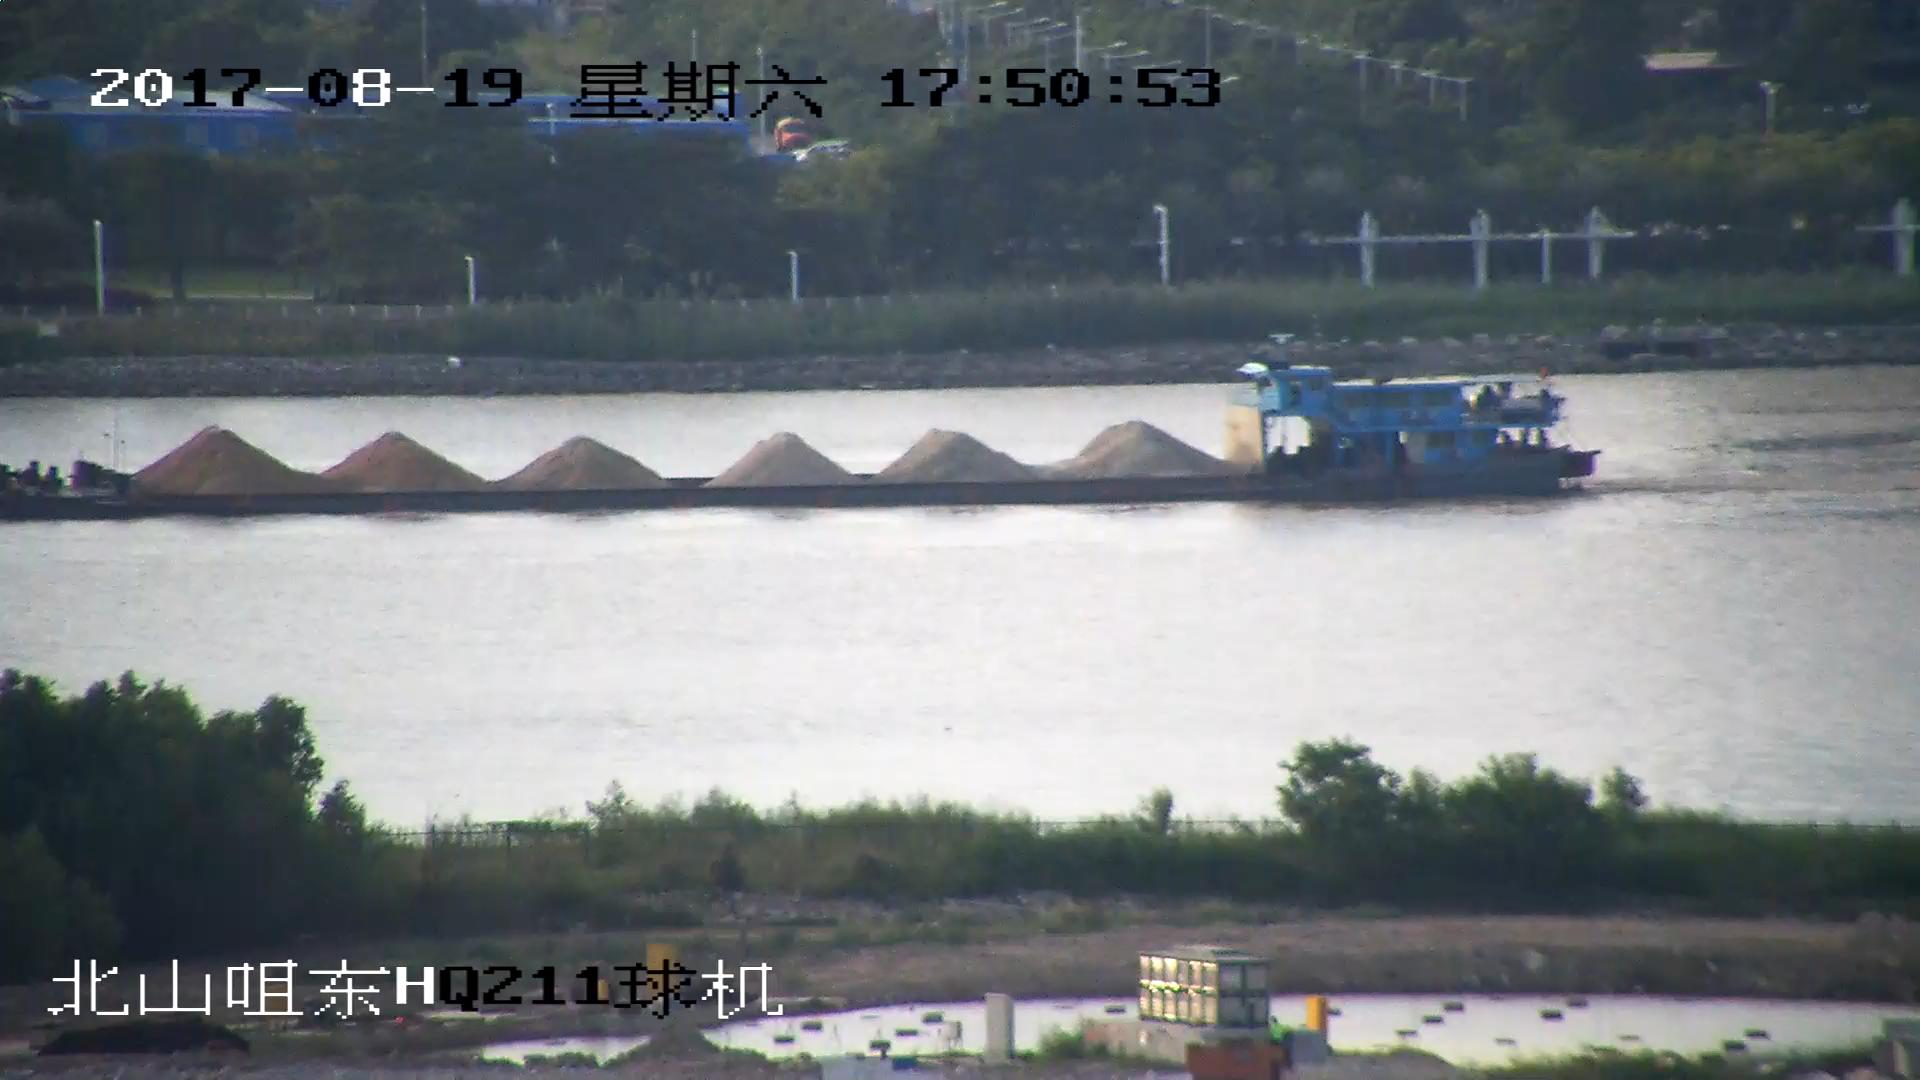ore carrier: (1, 331, 1600, 518)
